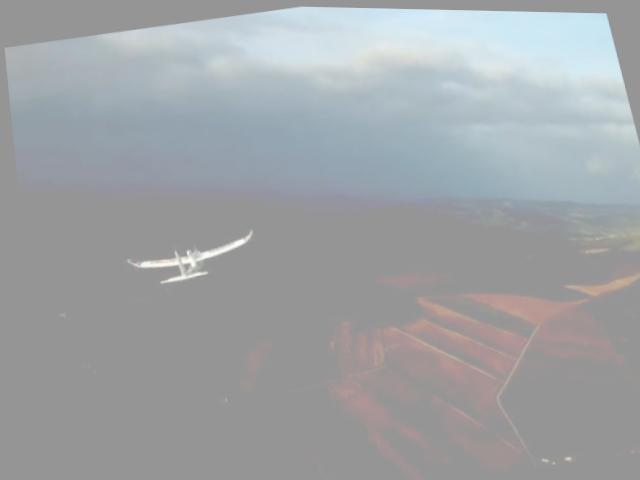iha: (110, 214, 264, 291)
